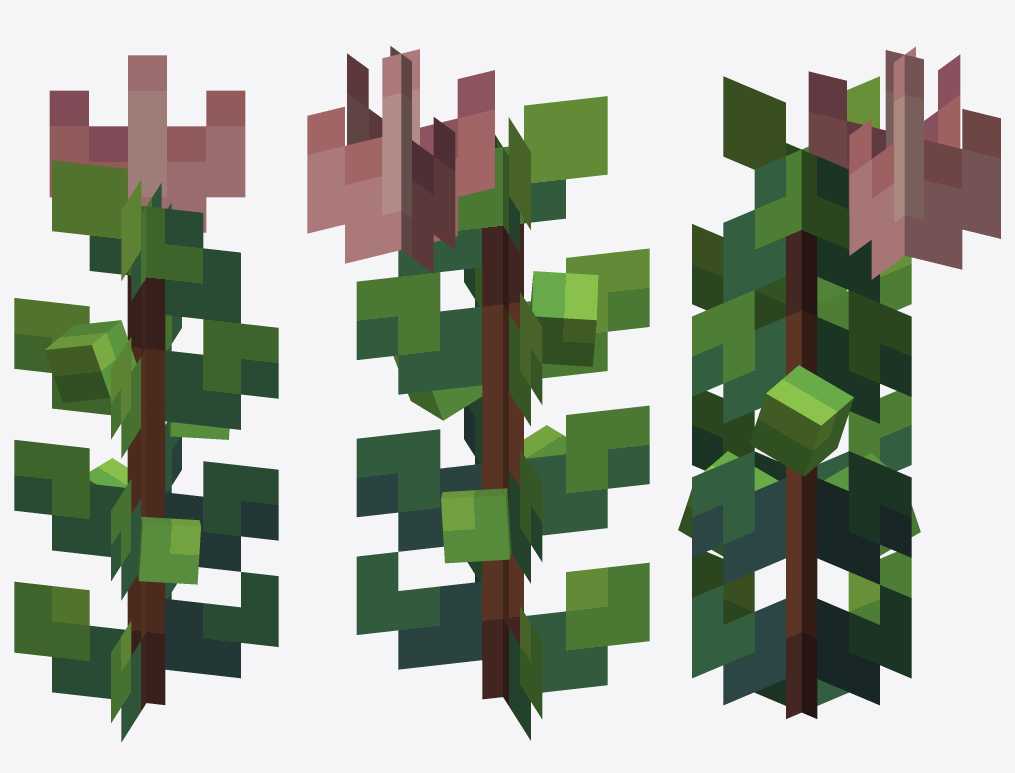
Rendered from cranberry-stage3.gltf.
The picture shows the model from 3 angles, left to right: view 1: azimuth 30°, elevation 25°; view 2: azimuth 150°, elevation 25°; view 3: azimuth 270°, elevation 25°; orthographic projection. The views are drawn at different scales.
Parts seen in each view (by area): view 1: cube (×7); view 2: cube (×8); view 3: cube (×8).
Boxes of the visible parts, box(x1,y1,x2,y2) form: cube (×7): box(14, 55, 278, 742); cube (×8): box(307, 46, 649, 740); cube (×8): box(678, 46, 1000, 718).
Bounding box in the file's own units: 0.393 × 1.06 × 0.4545.
Materials: 1 (1 with a texture image).
